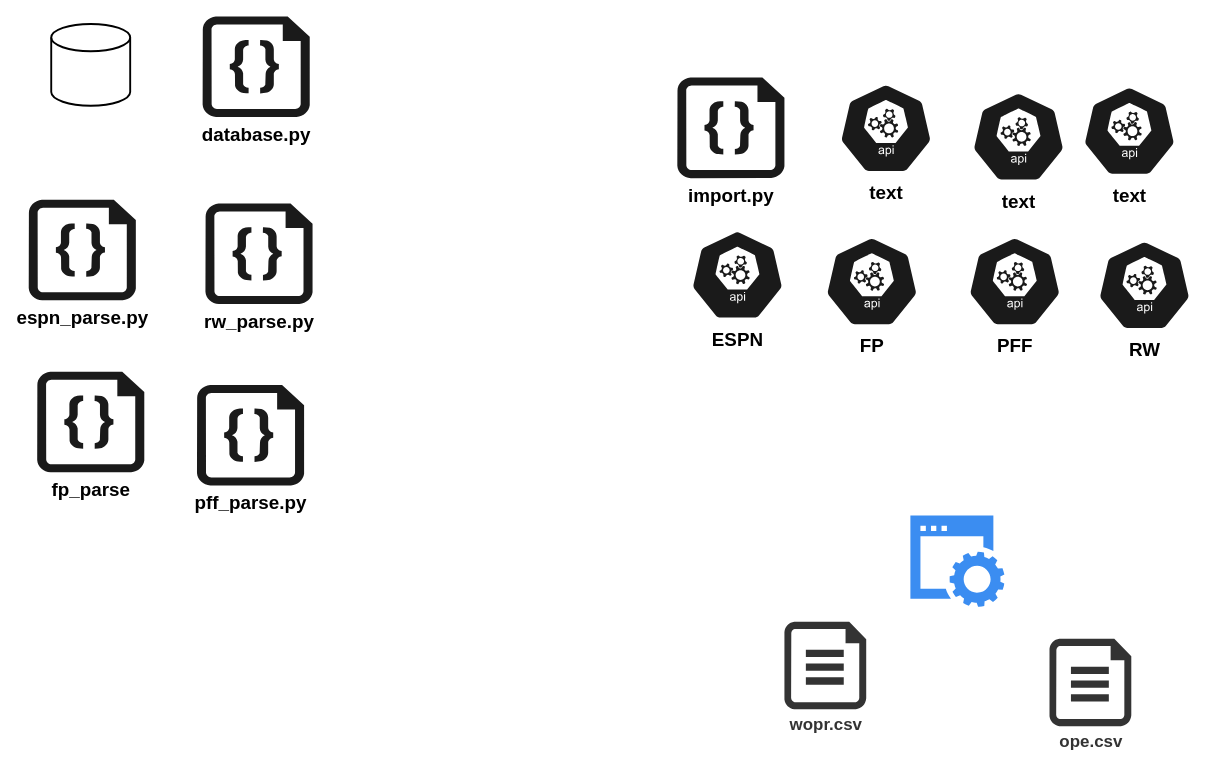
Image size: 1208x769. Some labels were removed from this diagram. The centre of each missing label's shape, as x and y in pixels:
"airyards.com" goes at [957,560].
"database.db" goes at [90,64].
